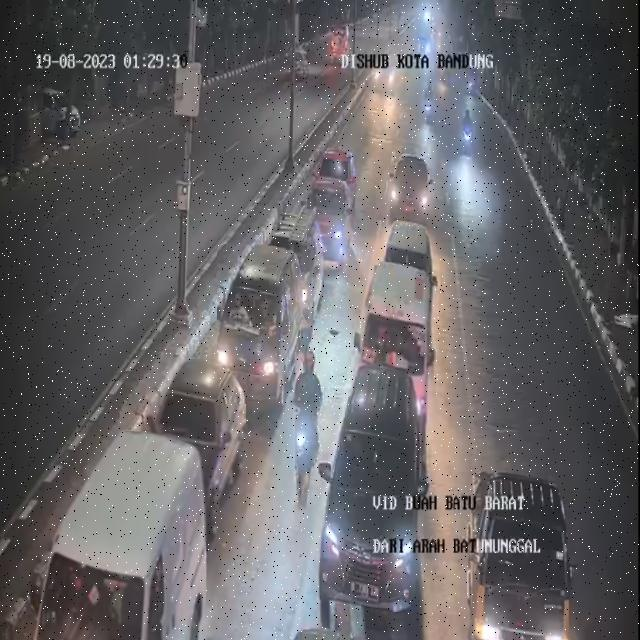cars: (34, 433, 206, 639), (320, 366, 426, 638), (455, 472, 573, 639), (148, 360, 246, 542), (355, 262, 436, 431), (218, 245, 302, 404), (271, 201, 329, 350), (386, 182, 438, 281), (308, 182, 352, 280)
